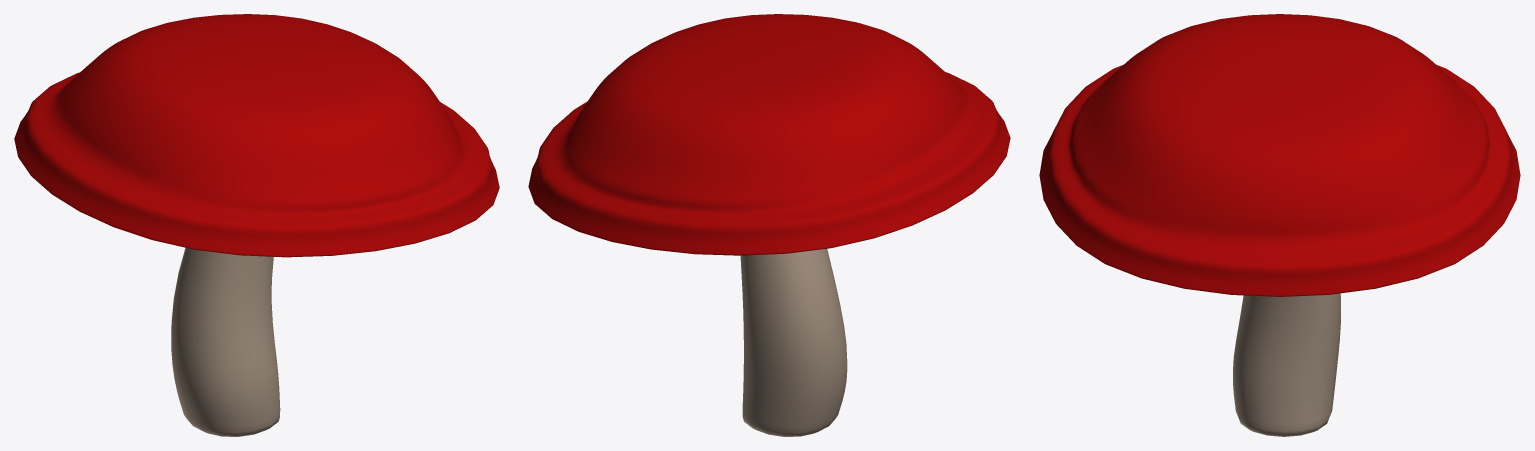
Rendered from Mushroom_2_Large_Brown.fbx.
3 renders of one model, left to right at view 1: azimuth 30°, elevation 25°; view 2: azimuth 150°, elevation 25°; view 3: azimuth 270°, elevation 25°, orthographic.
Parts seen in each view (by area): view 1: pCube4; view 2: pCube4; view 3: pCube4.
Boxes of the visible parts, x1,y1,x2,y2 form: pCube4: [14, 14, 499, 436]; pCube4: [528, 14, 1010, 436]; pCube4: [1039, 14, 1520, 436].
Bounding box in the file's own units: 364 × 309 × 365.
